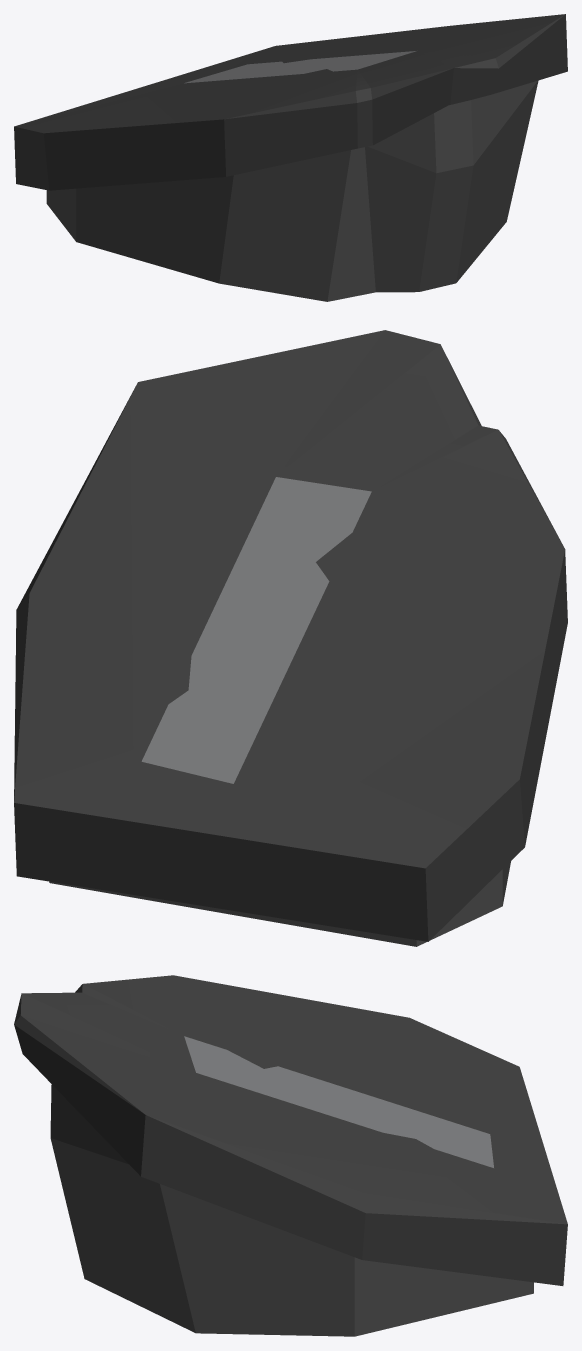
File: SM_Env_RoadPiece_Damaged_08.glb
The picture shows the model from 3 angles, top to bottom: view 1: azimuth 30°, elevation 25°; view 2: azimuth 150°, elevation 25°; view 3: azimuth 270°, elevation 25°; orthographic projection. The views are drawn at different scales.
Parts seen in each view (by area): view 1: SM_Env_RoadPiece_Damaged_08; view 2: SM_Env_RoadPiece_Damaged_08; view 3: SM_Env_RoadPiece_Damaged_08.
Part boxes in pixels (box(x1,y1,x2,y2)): SM_Env_RoadPiece_Damaged_08: box(14, 14, 567, 301); SM_Env_RoadPiece_Damaged_08: box(14, 330, 567, 946); SM_Env_RoadPiece_Damaged_08: box(14, 975, 567, 1336).
Bounding box in the file's own units: 1.91 × 1.11 × 2.06.
1 material, 1 textured.
